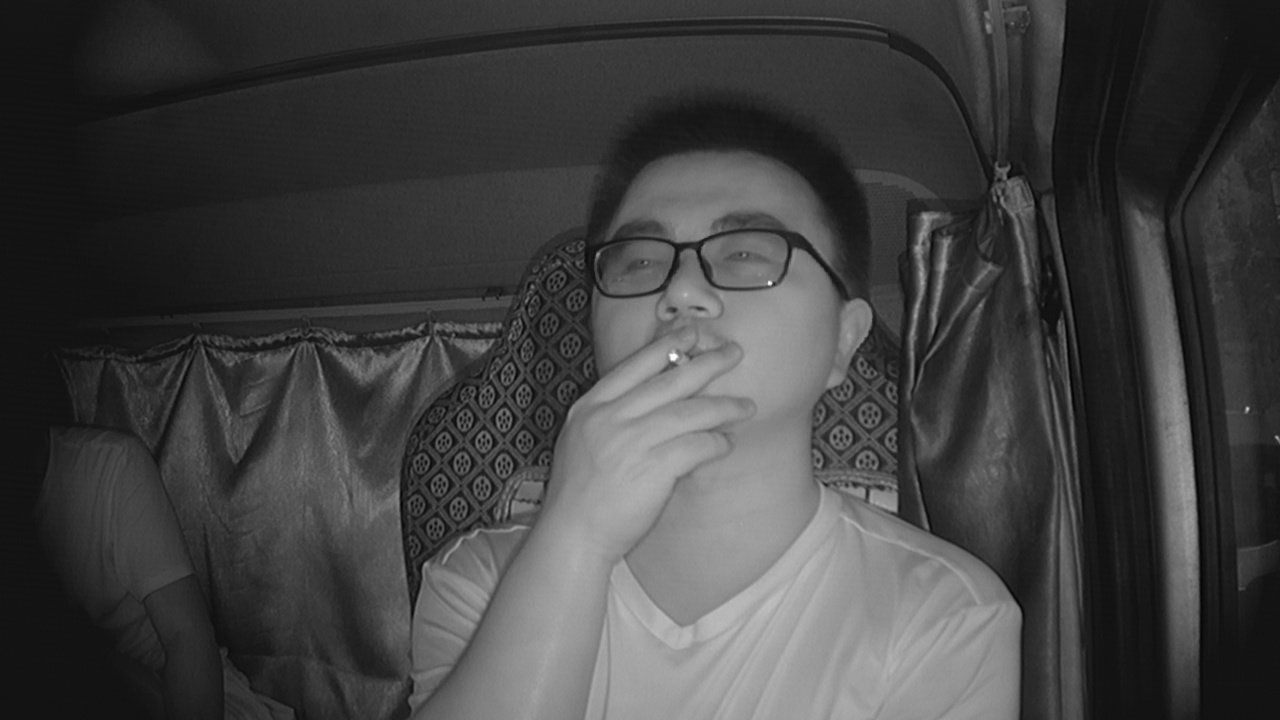hand: (564, 335, 761, 521)
